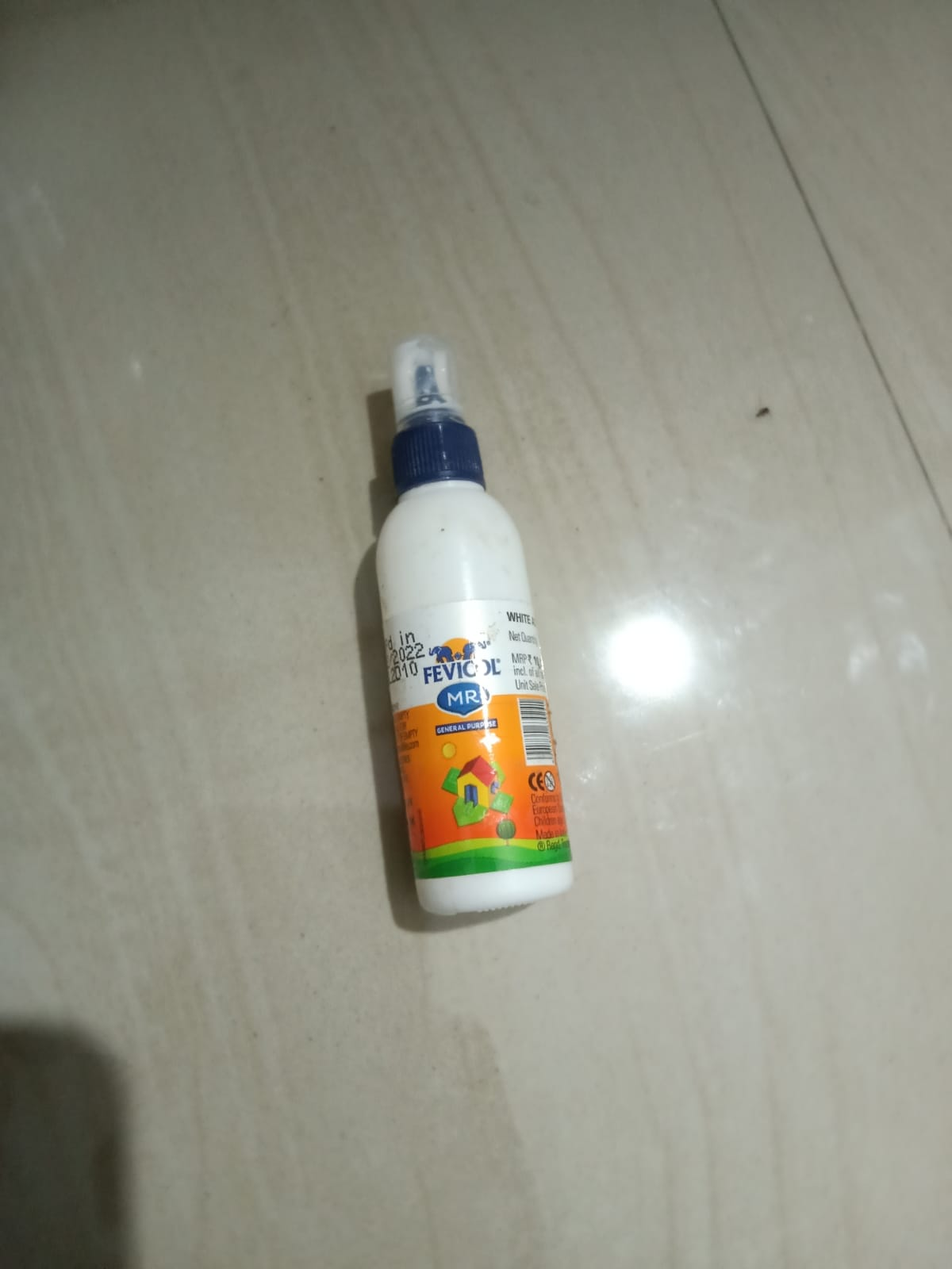plastic: (228, 323, 718, 975)
